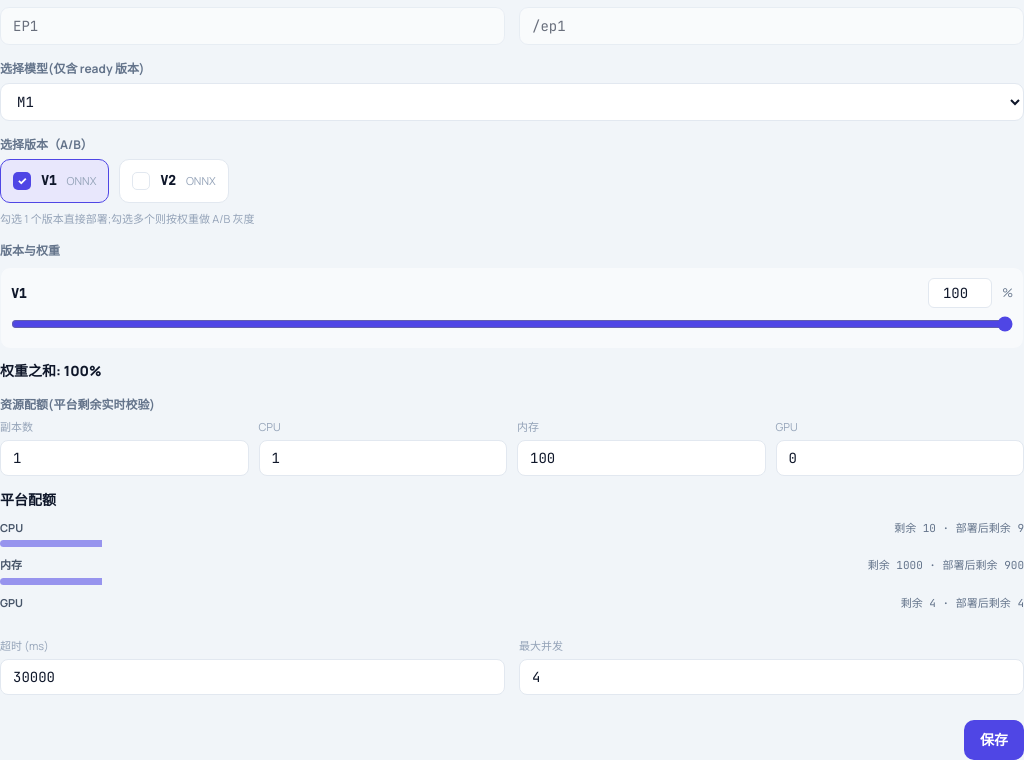
Test: EndpointForm 编辑在线端点警告 › 运行中端点保存 → 弹二次确认,取消则不提交
(page scrolled)
Check: the number field with test id "weight-input-v1" is shown, box [928,278,992,308]
What coordinates should you click on to do the following:
click the button with test id "submit-endpoint"
I would click on:
 (994, 740)
Its box is [964,720,1023,759].
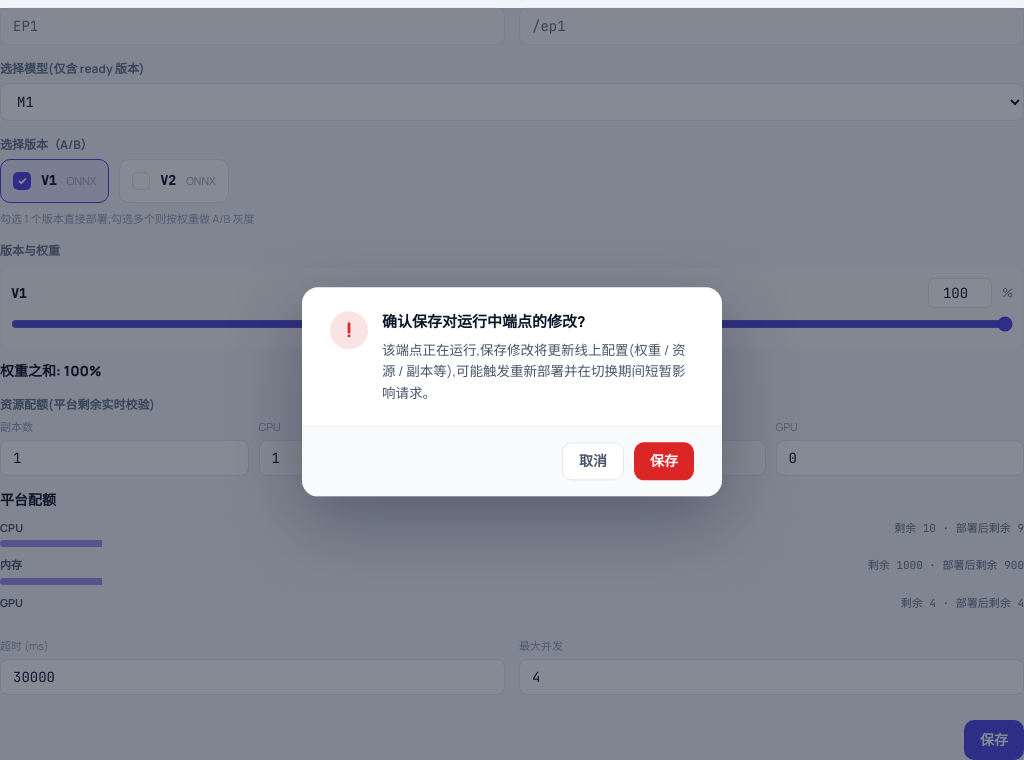
What coordinates should you click on to do the following:
click the button with test id "confirm-no"
I would click on:
 (593, 462)
Its box is [562,443,624,481].
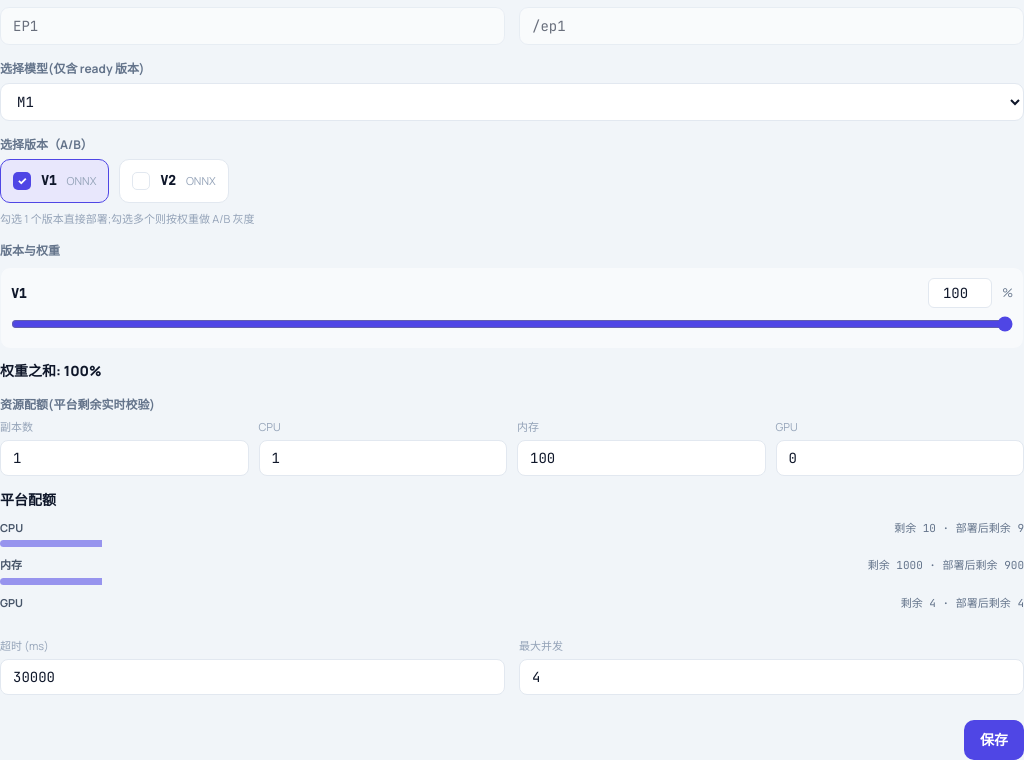
Check: the dialog with test id "confirm-dialog" is gone
